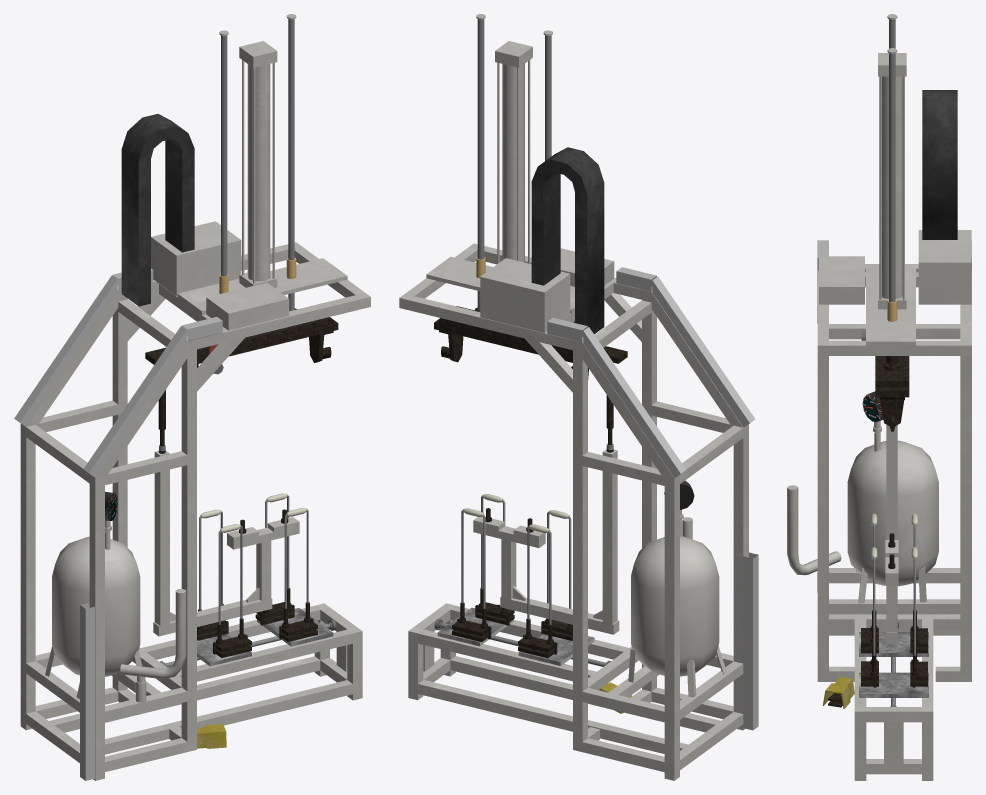
The model's file is JiaZi009.FBX.
3 renders of one model, left to right at view 1: azimuth 30°, elevation 25°; view 2: azimuth 150°, elevation 25°; view 3: azimuth 270°, elevation 25°, orthographic. The views are drawn at different scales.
Visible parts, largest first — view 1: YF_Model_JiaZi009; view 2: YF_Model_JiaZi009; view 3: YF_Model_JiaZi009.
Boxes of the visible parts, box(x1,y1,x2,y2) form: YF_Model_JiaZi009: box(14, 14, 370, 780); YF_Model_JiaZi009: box(399, 14, 758, 780); YF_Model_JiaZi009: box(787, 14, 971, 780).
Size of the model in its own units: 306 by 677 by 161.
Materials: 1 (1 with a texture image).
